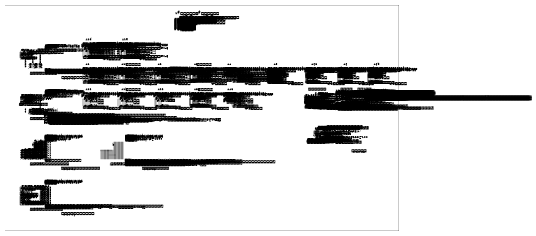room: (54, 142, 65, 146), (54, 189, 63, 193), (488, 142, 494, 146), (496, 142, 502, 146), (488, 137, 494, 141), (496, 137, 502, 141), (24, 42, 29, 46), (29, 42, 33, 46), (21, 41, 24, 46), (124, 192, 129, 195), (222, 166, 227, 169), (21, 37, 24, 41), (41, 43, 45, 46), (48, 43, 52, 46), (48, 32, 52, 35), (21, 32, 25, 35), (38, 43, 41, 46), (45, 43, 48, 46), (21, 137, 24, 140), (33, 42, 35, 46), (41, 28, 45, 30), (48, 28, 52, 30), (48, 30, 52, 32), (48, 35, 52, 37), (48, 39, 52, 41), (48, 41, 52, 43), (48, 37, 52, 39), (21, 28, 25, 30), (28, 28, 32, 30), (21, 30, 25, 32), (21, 35, 25, 37), (38, 28, 41, 30), (45, 28, 48, 30), (25, 28, 28, 30), (32, 28, 35, 30), (35, 28, 38, 30), (25, 35, 28, 37), (32, 35, 35, 37), (490, 143, 492, 145), (498, 143, 500, 145), (490, 137, 492, 139), (488, 137, 490, 139), (492, 137, 494, 139), (488, 139, 490, 141), (490, 139, 492, 141), (492, 139, 494, 141), (28, 35, 30, 37), (490, 145, 492, 146), (488, 143, 489, 145), (489, 143, 490, 145), (492, 143, 493, 145), (490, 142, 492, 143), (498, 145, 500, 146), (496, 143, 497, 145), (497, 143, 498, 145), (500, 143, 501, 145), (501, 143, 502, 145), (498, 142, 500, 143), (498, 140, 500, 141), (424, 96, 426, 97), (424, 94, 426, 95), (434, 94, 436, 95), (436, 96, 438, 97), (434, 96, 436, 97), (436, 94, 438, 95), (28, 37, 30, 38), (30, 37, 32, 38), (488, 145, 489, 146), (489, 145, 490, 146), (492, 145, 493, 146), (493, 145, 494, 146), (488, 142, 489, 143), (489, 142, 490, 143), (492, 142, 493, 143), (493, 142, 494, 143), (496, 145, 497, 146), (497, 145, 498, 146), (500, 145, 501, 146), (496, 142, 497, 143), (497, 142, 498, 143), (500, 142, 501, 143), (496, 140, 497, 141), (497, 140, 498, 141), (471, 133, 472, 134), (470, 130, 471, 131), (472, 129, 473, 130), (423, 96, 424, 97), (423, 94, 424, 95)
shaft: (32, 122, 41, 126), (33, 137, 35, 140)
staircase: (424, 138, 432, 141), (423, 132, 430, 135), (426, 141, 432, 143), (456, 147, 460, 149), (429, 139, 432, 141), (429, 141, 432, 143), (427, 132, 430, 134), (423, 133, 426, 135), (424, 138, 428, 139), (409, 136, 410, 137), (420, 129, 421, 130), (451, 132, 451, 132), (451, 132, 452, 132), (471, 134, 471, 134)
wall: (35, 37, 38, 46), (409, 155, 412, 159), (459, 155, 462, 159), (21, 180, 22, 186), (450, 136, 454, 137), (21, 180, 22, 183), (409, 162, 412, 163), (453, 162, 456, 163), (459, 162, 462, 163), (494, 162, 497, 163), (500, 162, 503, 163), (455, 133, 458, 134), (455, 130, 458, 131), (449, 130, 452, 131), (425, 129, 428, 130), (21, 184, 22, 186), (416, 162, 418, 163), (462, 130, 464, 131), (463, 131, 465, 132), (471, 130, 473, 131), (470, 129, 472, 130), (408, 133, 410, 134), (425, 128, 427, 129), (28, 37, 30, 38), (64, 143, 65, 144), (62, 190, 63, 191), (425, 94, 426, 95), (437, 94, 438, 95), (472, 128, 473, 129), (408, 136, 409, 137), (409, 137, 410, 138), (428, 128, 429, 129), (54, 118, 55, 118), (24, 187, 25, 187), (33, 180, 34, 180), (29, 180, 30, 180), (24, 185, 25, 185), (23, 185, 25, 185), (23, 180, 24, 180), (27, 180, 28, 180), (38, 84, 39, 84), (463, 130, 464, 130), (470, 134, 472, 134), (470, 128, 471, 128), (409, 139, 410, 139), (417, 134, 418, 134), (431, 132, 432, 132), (28, 38, 30, 38)
window: (38, 82, 48, 84), (48, 77, 52, 82), (48, 88, 52, 91), (35, 77, 41, 79), (38, 88, 41, 91), (21, 75, 25, 77), (28, 75, 32, 77), (21, 77, 25, 79), (21, 82, 25, 84), (48, 82, 52, 84), (48, 75, 52, 77), (41, 75, 45, 77), (48, 77, 52, 79), (48, 86, 52, 88), (48, 84, 52, 86), (48, 91, 52, 93), (41, 91, 45, 93), (41, 82, 45, 84), (21, 80, 25, 82), (28, 82, 32, 84), (48, 80, 52, 82), (25, 75, 28, 77), (25, 82, 28, 84), (32, 82, 35, 84), (45, 75, 48, 77), (38, 77, 41, 79), (38, 75, 41, 77), (32, 75, 35, 77), (35, 75, 38, 77), (38, 91, 41, 93), (38, 84, 41, 86), (32, 77, 35, 79), (45, 91, 48, 93), (35, 82, 38, 84), (38, 82, 41, 84), (45, 82, 48, 84), (38, 86, 41, 88)
